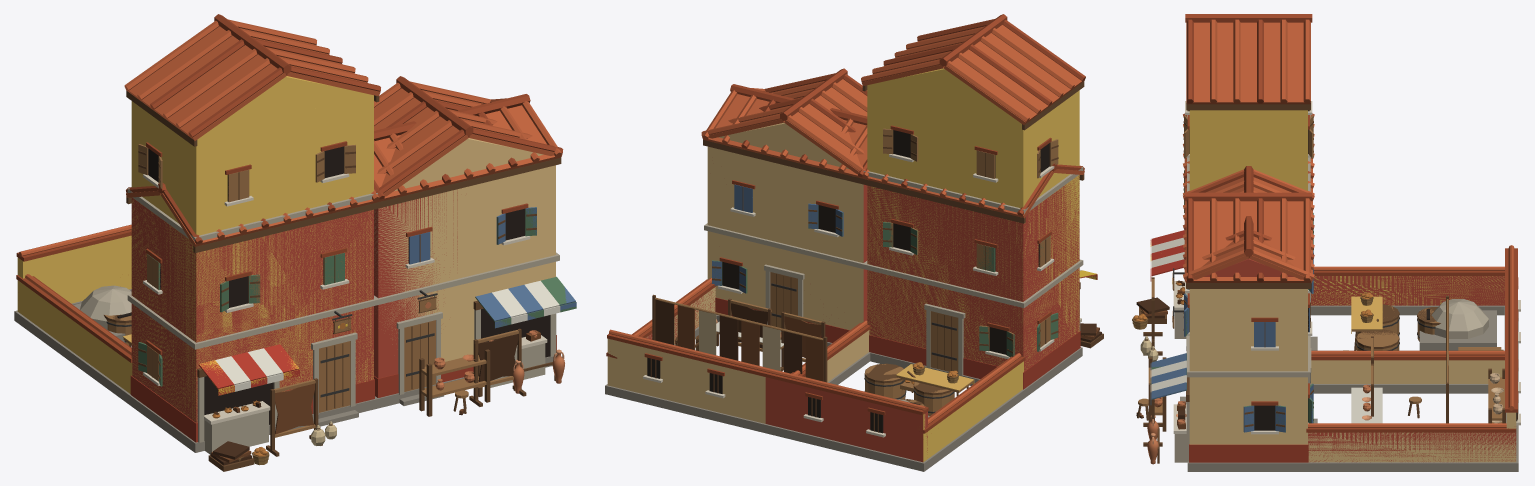
File: Handwerkerzeile.fbx
3 views of the same model, side by side, from view 1: azimuth 30°, elevation 25°; view 2: azimuth 150°, elevation 25°; view 3: azimuth 270°, elevation 25° (orthographic). The views are drawn at different scales.
Visible parts, largest first — view 1: Handwerkerzeile_1, Handwerkerzeile_0; view 2: Handwerkerzeile_0, Handwerkerzeile_1; view 3: Handwerkerzeile_0, Handwerkerzeile_1.
Boxes of the visible parts, left/top/right/bottom form: Handwerkerzeile_1: left=14, top=14, right=576, bottom=471; Handwerkerzeile_0: left=16, top=76, right=576, bottom=465; Handwerkerzeile_0: left=605, top=68, right=1097, bottom=471; Handwerkerzeile_1: left=605, top=14, right=1103, bottom=471; Handwerkerzeile_0: left=1132, top=113, right=1520, bottom=471; Handwerkerzeile_1: left=1136, top=14, right=1520, bottom=471.
Bounding box in the file's own units: 3.66 × 3.58 × 3.62.
